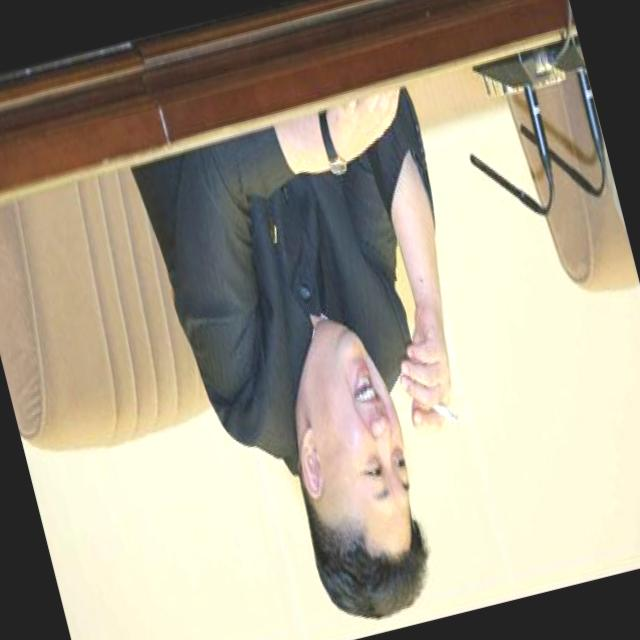cigarette: (428, 393, 462, 432)
